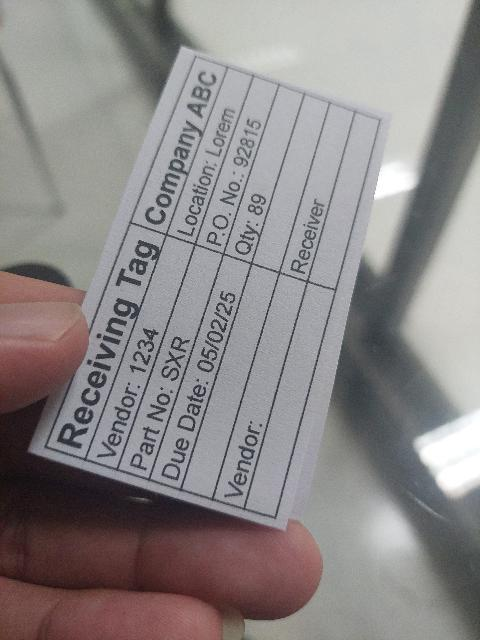PO no: (195, 73, 281, 256)
part no: (115, 241, 224, 480)
qty: (224, 87, 306, 264)
tags: (27, 46, 391, 533)
